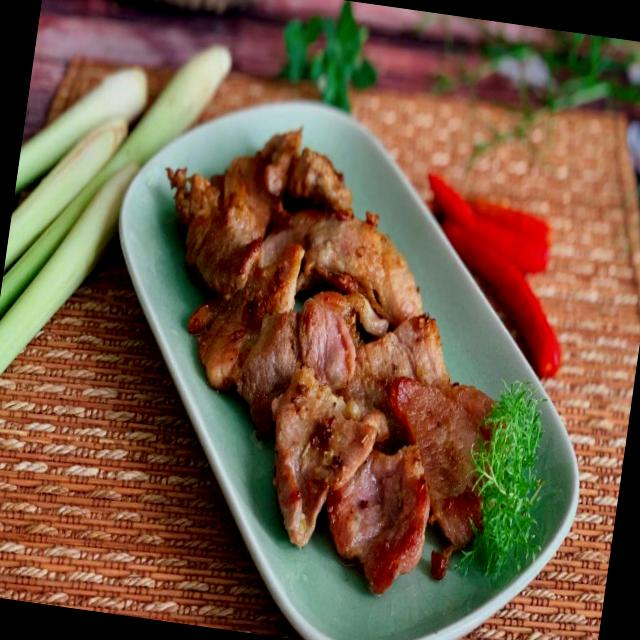thit chien: (168, 131, 492, 594)
